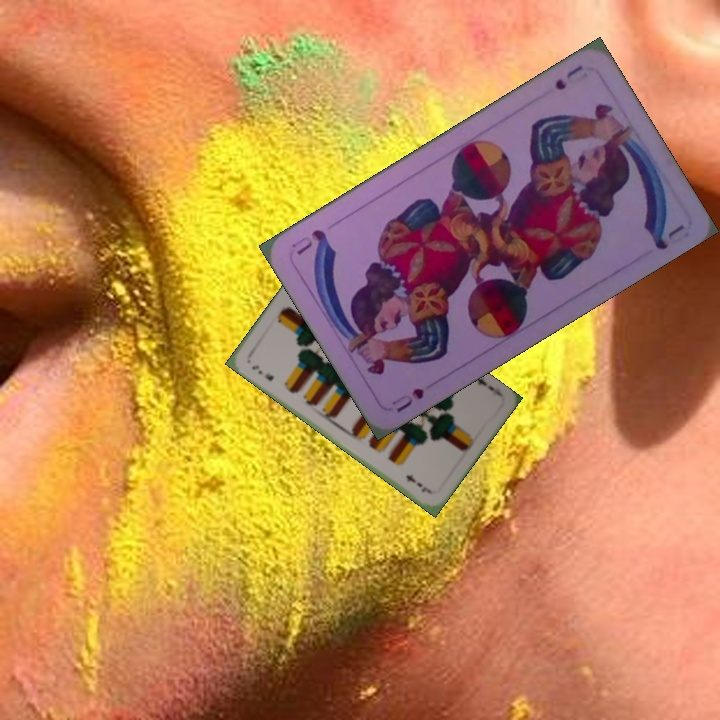E7: (248, 361, 276, 384), (472, 373, 497, 394)
SU: (388, 383, 427, 416), (550, 61, 586, 93)
